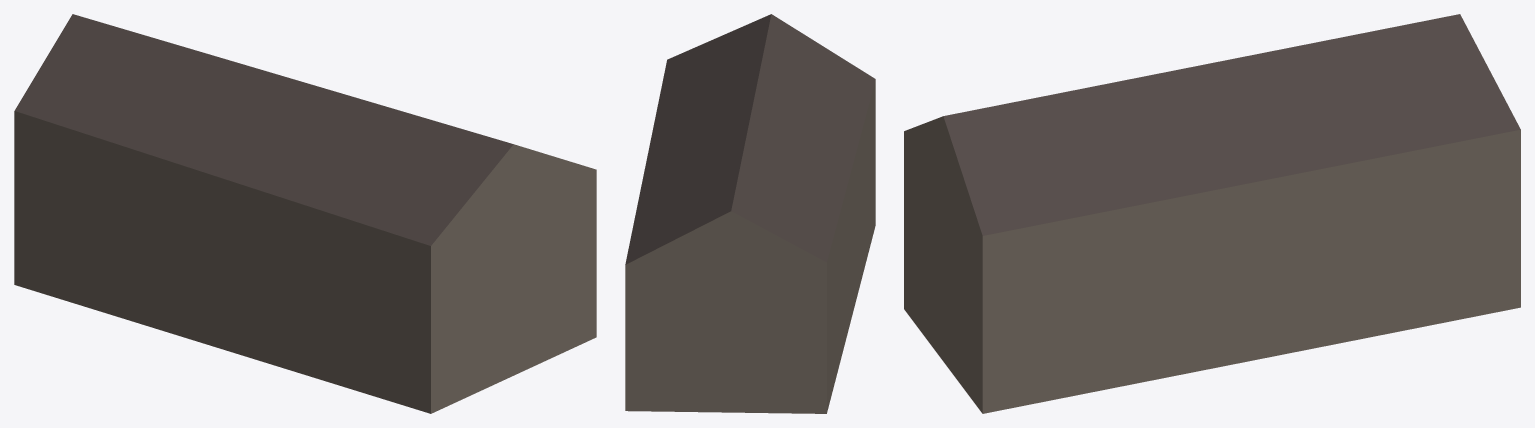
3 views of the same model, side by side, from view 1: azimuth 30°, elevation 25°; view 2: azimuth 150°, elevation 25°; view 3: azimuth 270°, elevation 25° (orthographic). The views are drawn at different scales.
Parts seen in each view (by area): view 1: HP-w1512359795; view 2: HP-w1512359795; view 3: HP-w1512359795.
Boxes of the visible parts, x1,y1,x2,y2 form: HP-w1512359795: (14, 14, 596, 413); HP-w1512359795: (625, 14, 875, 413); HP-w1512359795: (904, 14, 1520, 413).
Size of the model in its own units: 21.48 by 12.41 by 28.27.
